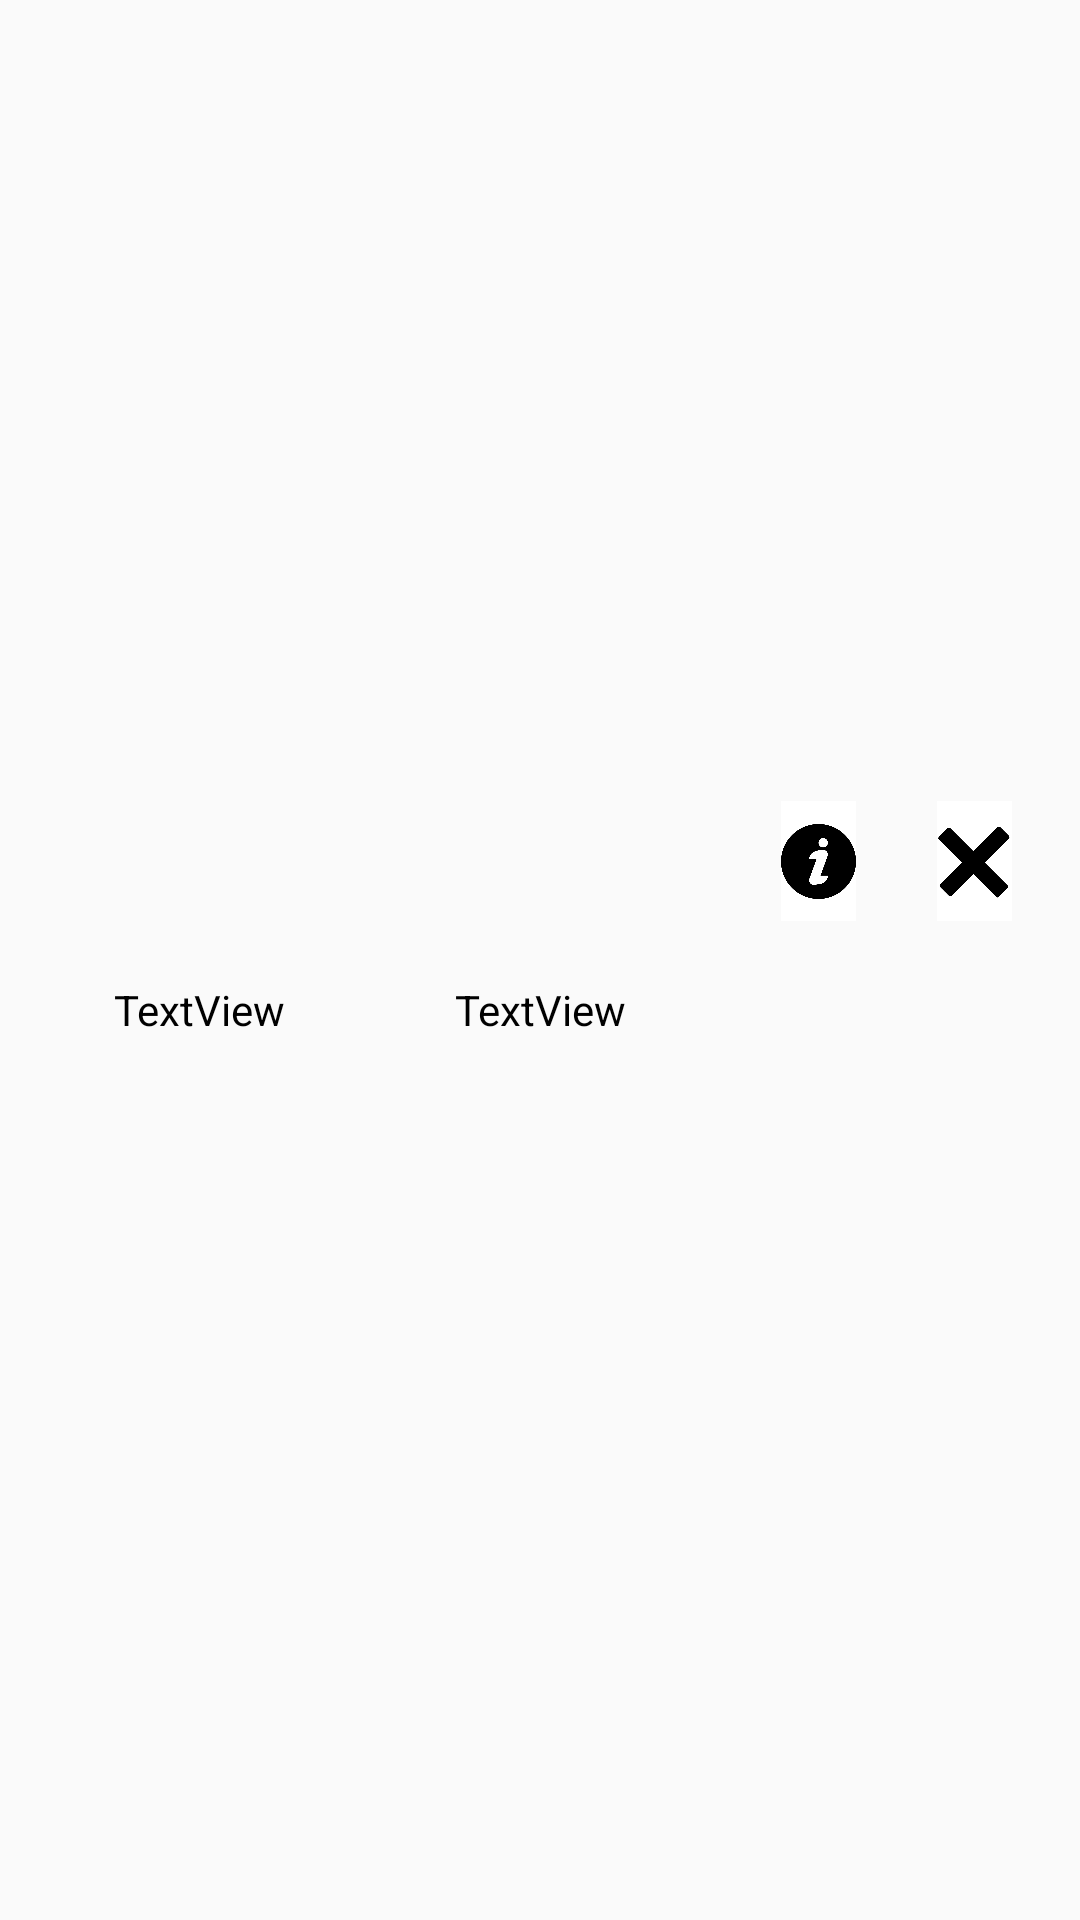

Screen size 1080 × 1920. Icon name, then its box in pixels as bbox(x1, y1, x2, y2):
information: bbox(781, 824, 856, 899)
xicon: bbox(938, 827, 1010, 898)
